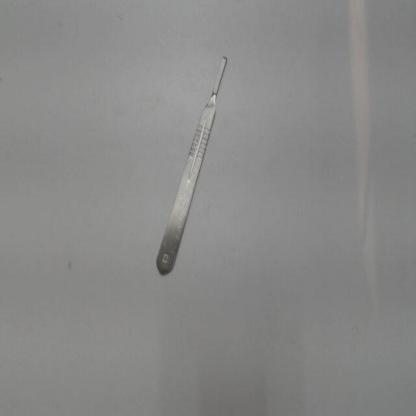No.4 BP Handle: (152, 47, 234, 282)
